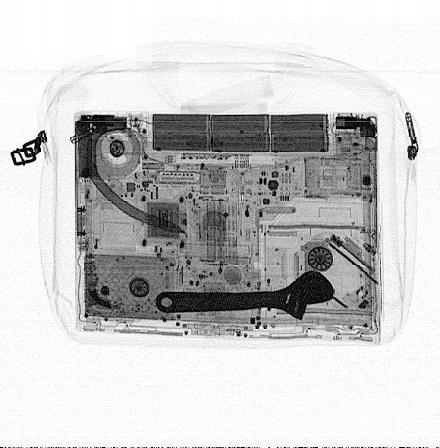Wrench: (154, 268, 335, 324)
